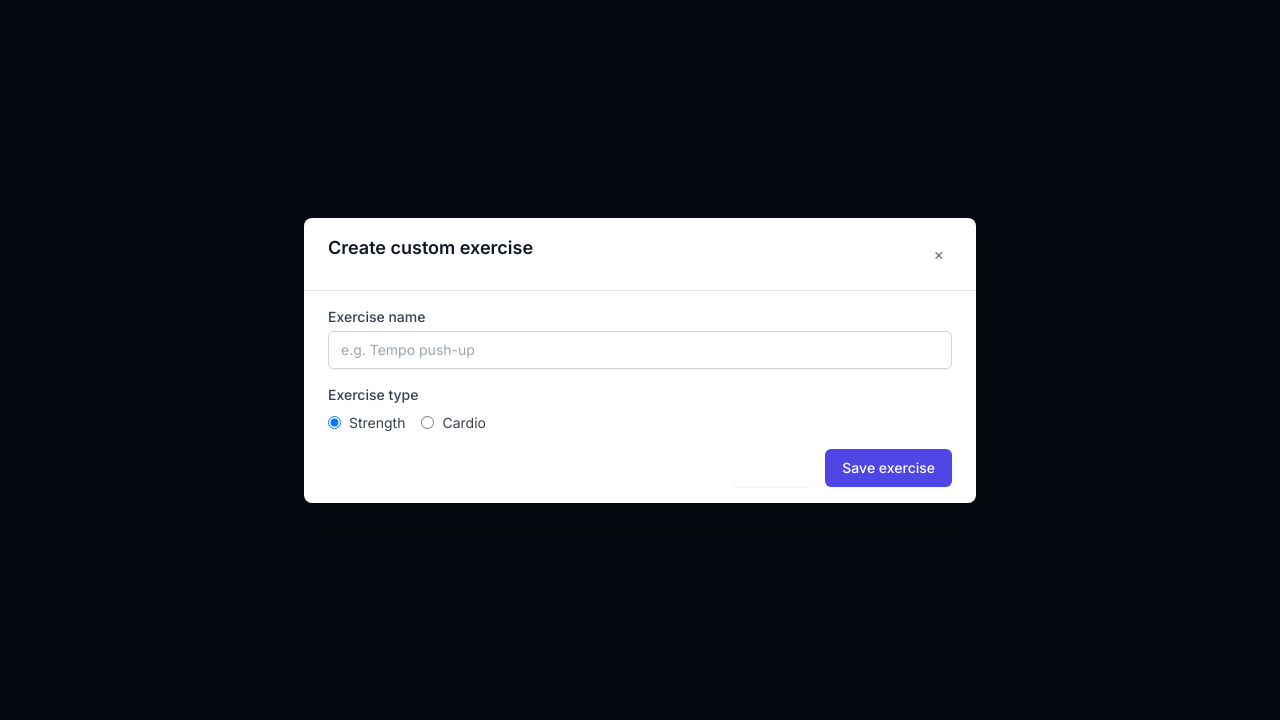
it: CreateCustomExerciseModal › validates that the exercise name is required
Step 1. Click the button "Save exercise" → (889, 468), box [825, 448, 952, 486]
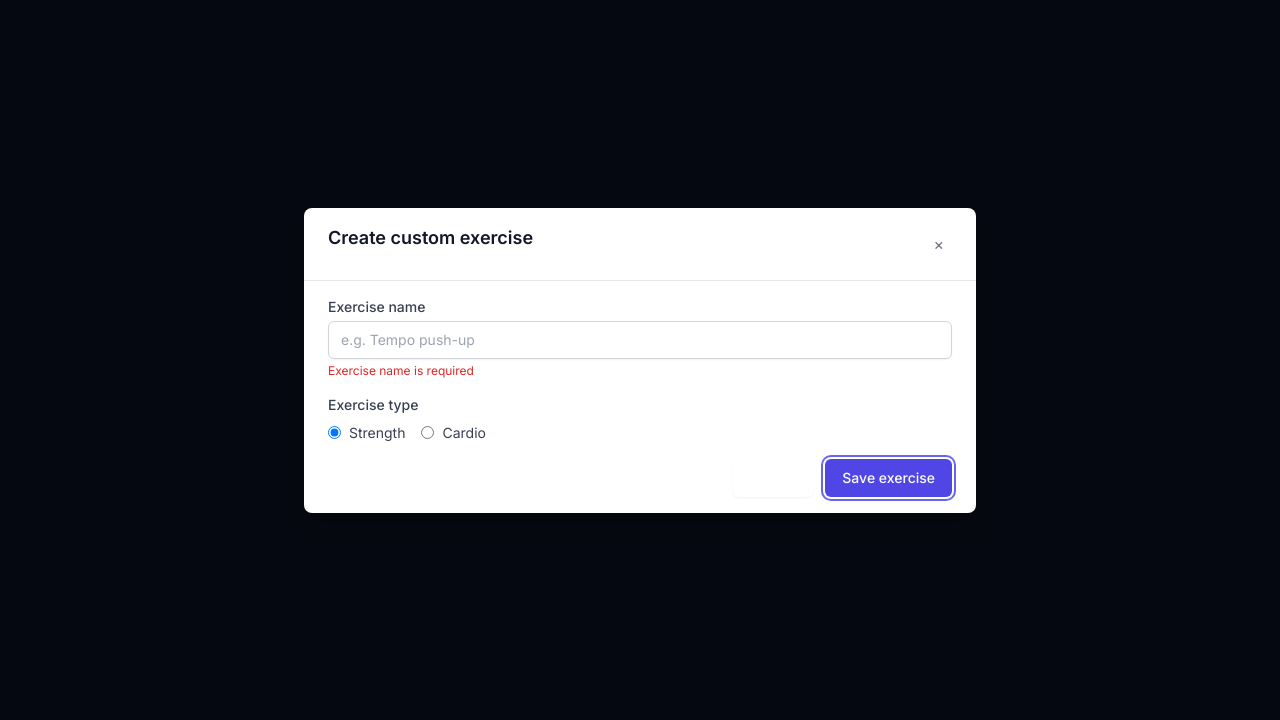
Now the text "Exercise name is required" is shown, box [328, 362, 474, 378]
